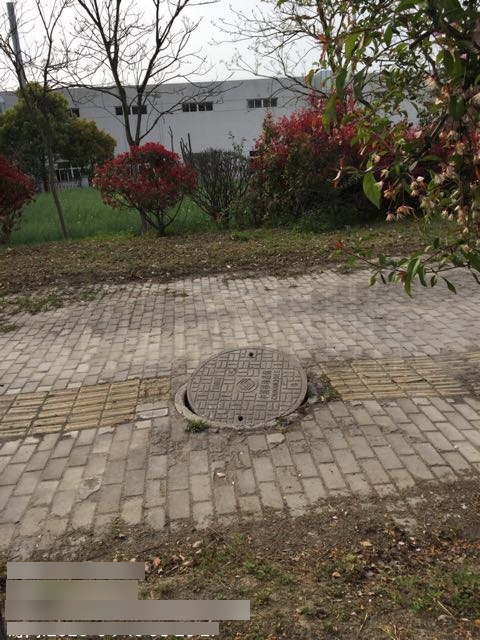uncovered: (173, 344, 317, 427)
